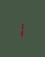one: (19, 19, 23, 37)
